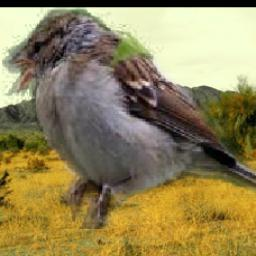Sparrow: (2, 7, 256, 229)
